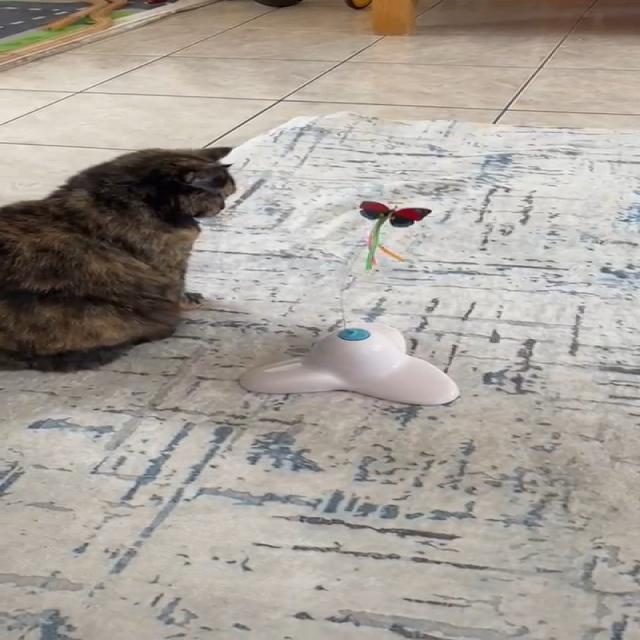authorized: (0, 145, 237, 373)
